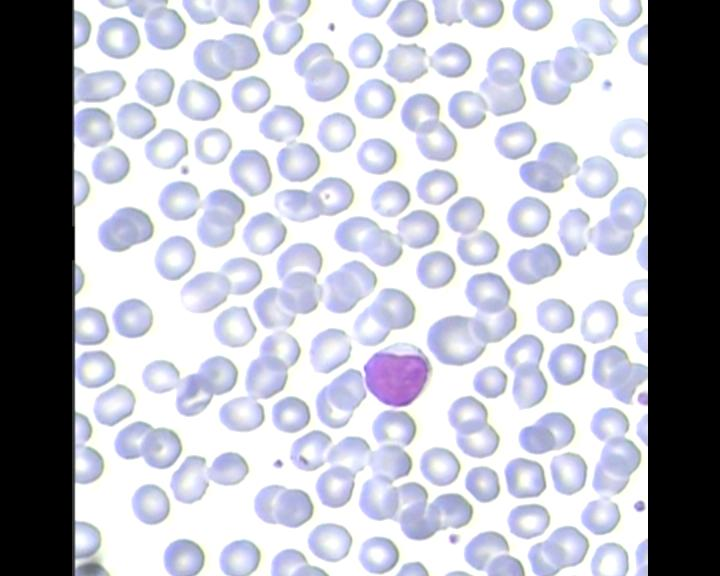lymp: (362, 339, 432, 411)
